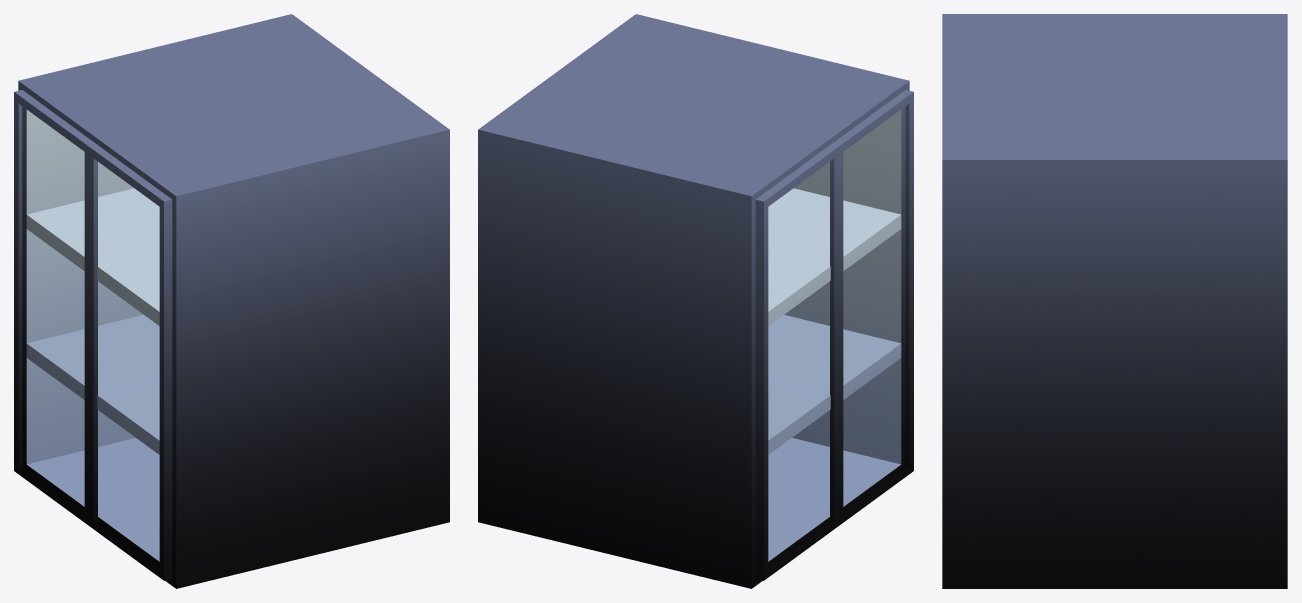
File: Fridge.fbx
The picture shows the model from 3 angles, left to right: view 1: azimuth 30°, elevation 25°; view 2: azimuth 150°, elevation 25°; view 3: azimuth 270°, elevation 25°; orthographic projection. The views are drawn at different scales.
Parts seen in each view (by area): view 1: Fridge; view 2: Fridge; view 3: Fridge.
Boxes of the visible parts, box(x1,y1,x2,y2) form: Fridge: box(14, 14, 449, 588); Fridge: box(478, 14, 913, 588); Fridge: box(942, 14, 1287, 588).
Bounding box in the file's own units: 206 × 200 × 274.
